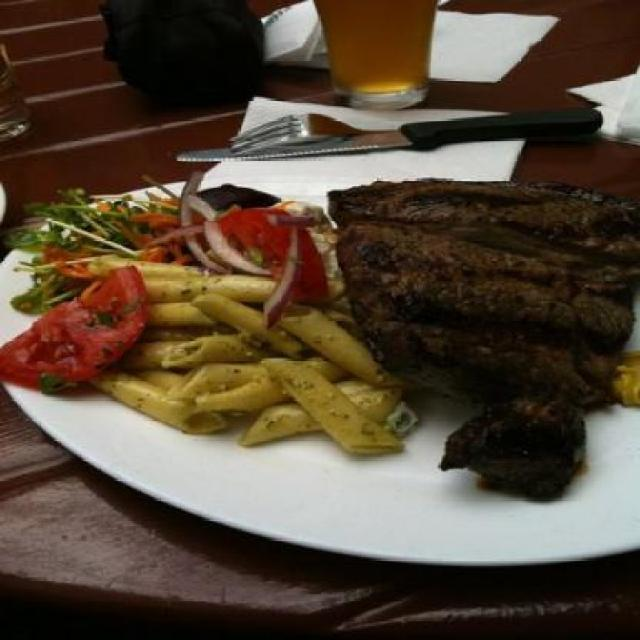Steak: (327, 160, 638, 497)
